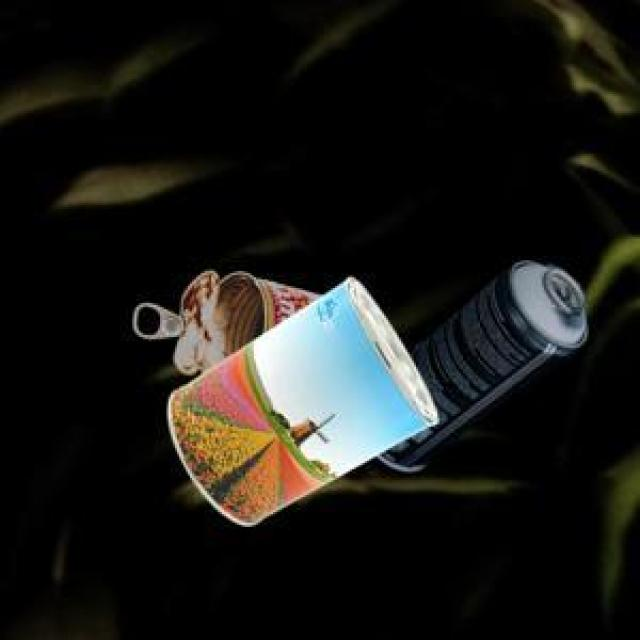metal: (166, 275, 439, 527), (356, 258, 589, 482), (130, 271, 320, 380)
